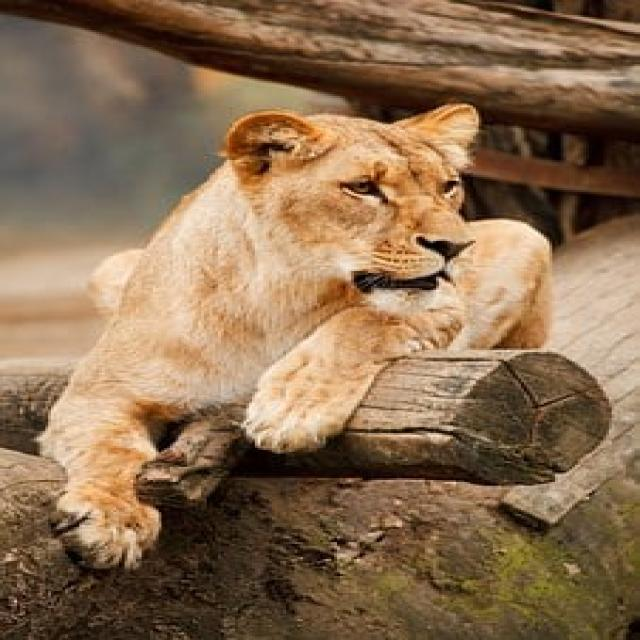Lion: (37, 104, 549, 567)
